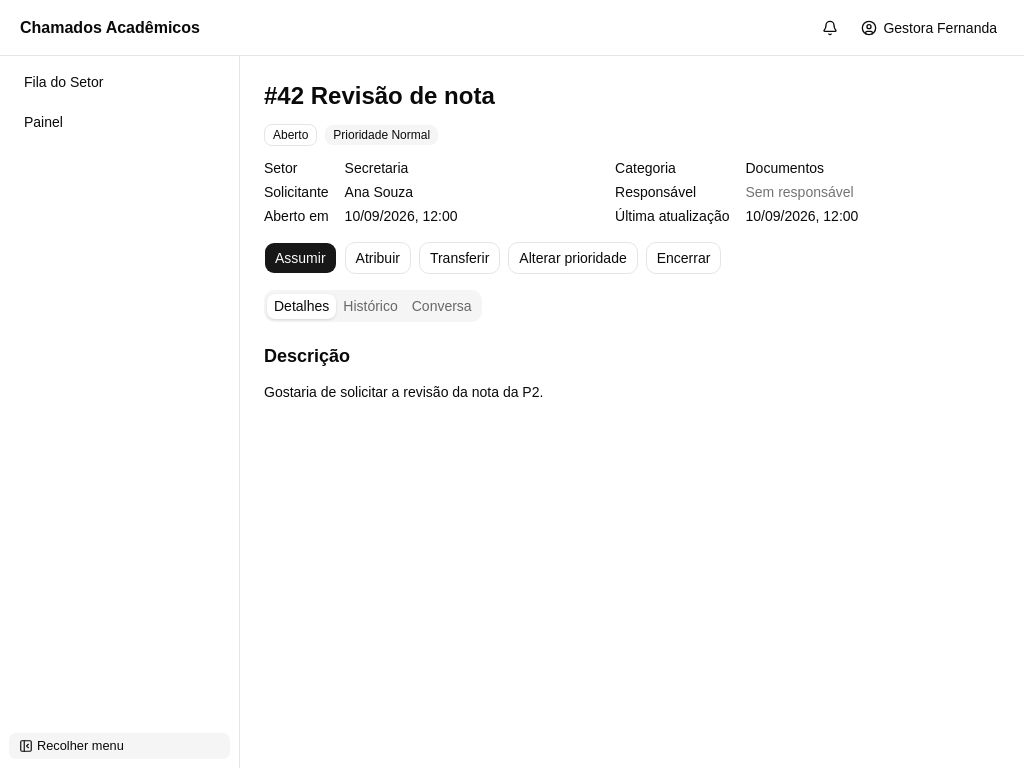
AssignDialog (BR8.5, US3.1) › explains a refusal of the server inside the dialog (AC3.1.2)
Expected: the heading "#42 Revisão de nota" is shown, left=264, top=82, right=495, bottom=109
Click the button with test id "ticket-actions-assign-button".
click(378, 258)  # box left=345, top=242, right=411, bottom=274
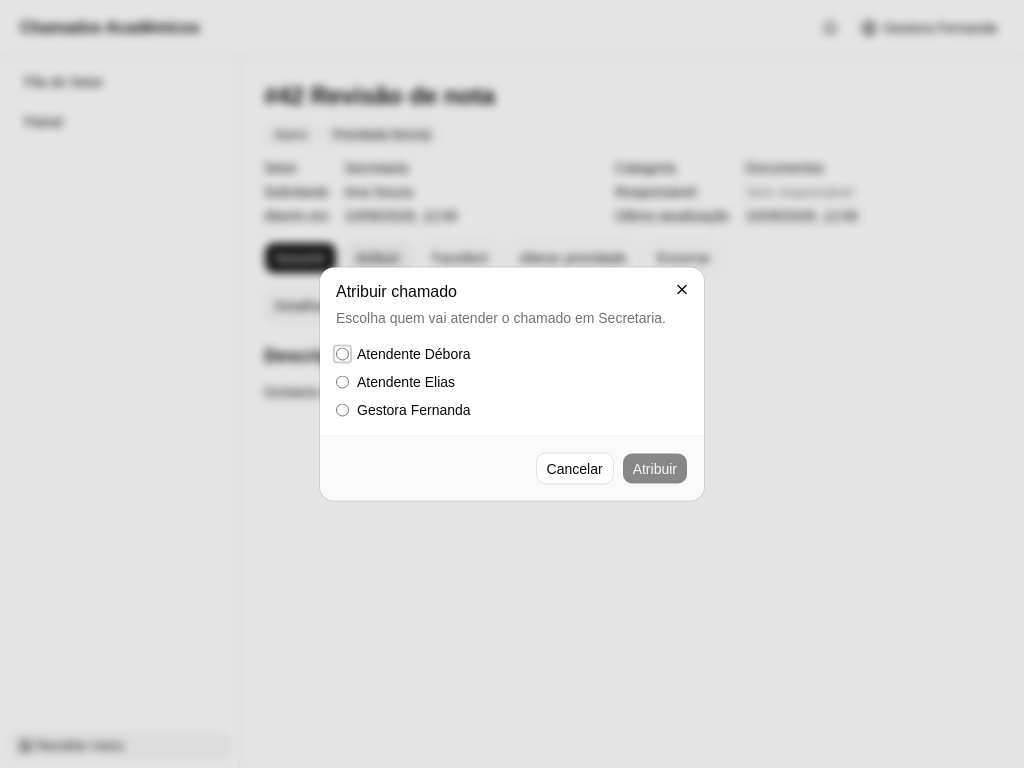
Click the radio button labelled "Atendente Elias".
click(342, 382)  # box left=336, top=375, right=349, bottom=388
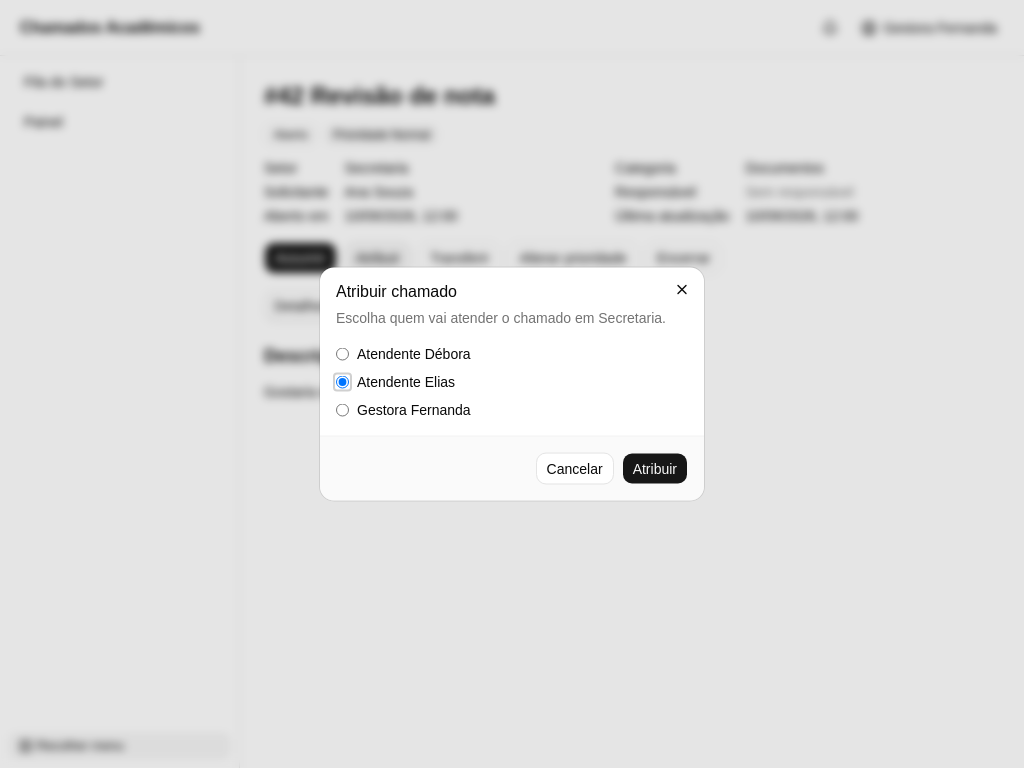
Click the button "Atribuir".
click(655, 468)  # box left=622, top=452, right=688, bottom=484
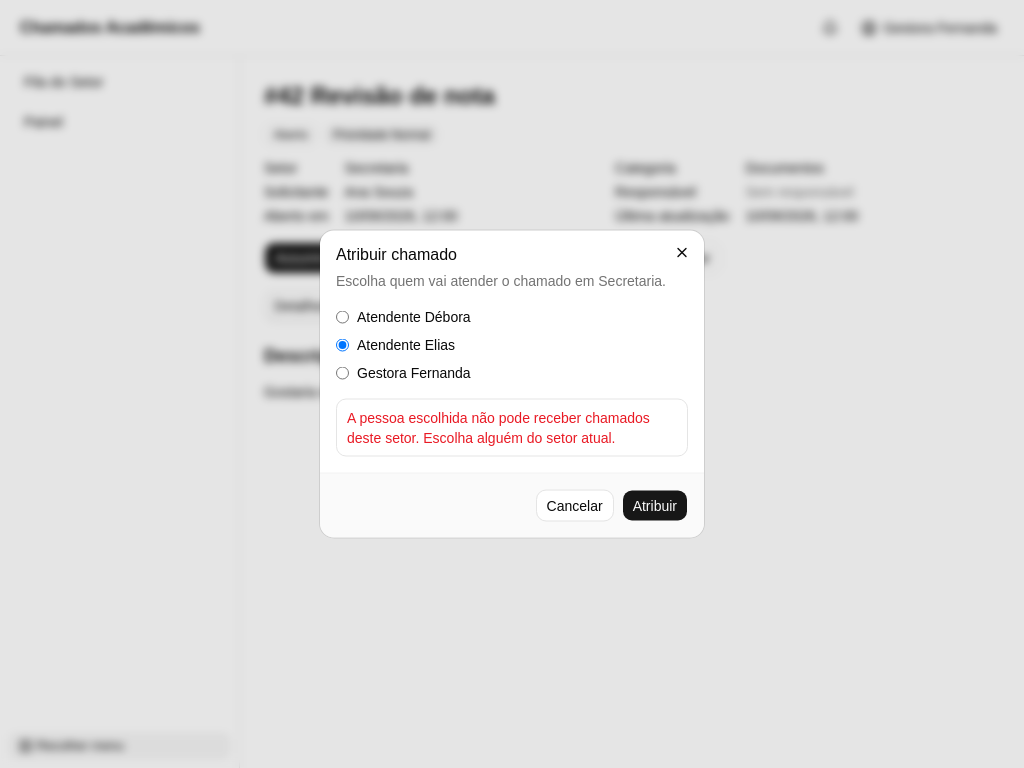
Now the message shows "A pessoa escolhida não pode receber chamados deste setor.", box left=347, top=410, right=650, bottom=446
